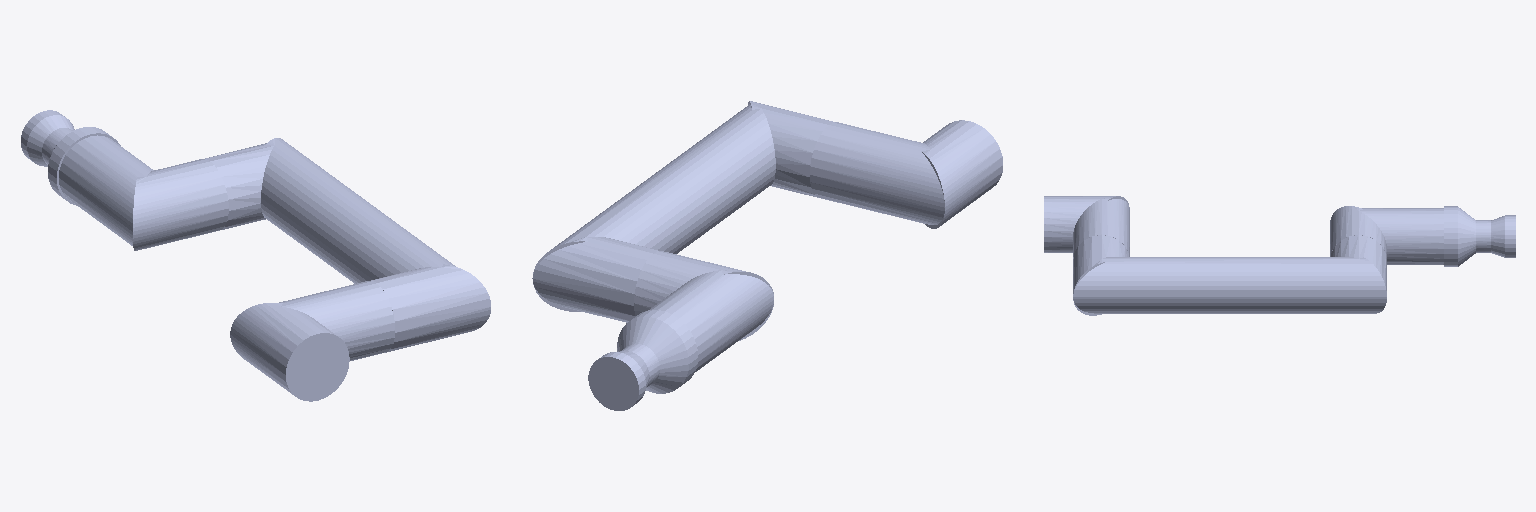
robot.urdf — Arm_Assembly:
<?xml version="1.0" encoding="utf-8"?>
<!-- This URDF was automatically created by SolidWorks to URDF Exporter! Originally created by [author] ([email redacted]) 
     Commit Version: 1.6.0-4-g7f85cfe  Build Version: 1.6.7995.38578
     For more information, please see http://wiki.ros.org/sw_urdf_exporter -->
<robot
  name="Arm_Assembly">
  <link
    name="base_link">
    <inertial>
      <origin
        xyz="0.0164819322270452 0.0335124839144456 -5.56826969460113E-08"
        rpy="0 0 0" />
      <mass
        value="0.125759644329932" />
      <inertia
        ixx="4.16616801787519E-05"
        ixy="-1.34383880723424E-05"
        ixz="3.2184099402983E-11"
        iyy="7.3944309174314E-05"
        iyz="-1.55171517648567E-11"
        izz="9.04146855164234E-05" />
    </inertial>
    <visual>
      <origin
        xyz="0 0 0"
        rpy="0 0 0" />
      <geometry>
        <mesh
          filename="package://Arm_Assembly/meshes/base_link.STL" />
      </geometry>
      <material
        name="">
        <color
          rgba="0.792156862745098 0.819607843137255 0.933333333333333 1" />
      </material>
    </visual>
    <collision>
      <origin
        xyz="0 0 0"
        rpy="0 0 0" />
      <geometry>
        <mesh
          filename="package://Arm_Assembly/meshes/base_link.STL" />
      </geometry>
    </collision>
  </link>
  <link
    name="Arm1_Link">
    <inertial>
      <origin
        xyz="0.0350081421194621 0.0900005805225534 -2.63654143478789E-08"
        rpy="0 0 0" />
      <mass
        value="0.326914980795999" />
      <inertia
        ixx="0.00153752211017919"
        ixy="2.12277509655233E-08"
        ixz="1.18707987533775E-09"
        iyy="0.000100837197022016"
        iyz="8.79449695233313E-10"
        izz="0.00157291699498599" />
    </inertial>
    <visual>
      <origin
        xyz="0 0 0"
        rpy="0 0 0" />
      <geometry>
        <mesh
          filename="package://Arm_Assembly/meshes/Arm1_Link.STL" />
      </geometry>
      <material
        name="">
        <color
          rgba="0.792156862745098 0.819607843137255 0.933333333333333 1" />
      </material>
    </visual>
    <collision>
      <origin
        xyz="0 0 0"
        rpy="0 0 0" />
      <geometry>
        <mesh
          filename="package://Arm_Assembly/meshes/Arm1_Link.STL" />
      </geometry>
    </collision>
  </link>
  <joint
    name="Arm_1"
    type="revolute">
    <origin
      xyz="0.06 0.04 0"
      rpy="0 0 0" />
    <parent
      link="base_link" />
    <child
      link="Arm1_Link" />
    <axis
      xyz="0 0 0" />
    <limit
      lower="0"
      upper="0"
      effort="0"
      velocity="0" />
  </joint>
  <link
    name="Arm2_Link">
    <inertial>
      <origin
        xyz="-0.0335124841072123 0.016481932158691 -5.51173252173295E-08"
        rpy="0 0 0" />
      <mass
        value="0.125759646485297" />
      <inertia
        ixx="7.39443096048779E-05"
        ixy="1.34383885010398E-05"
        ixz="1.65621191980396E-11"
        iyy="4.16616822135051E-05"
        iyz="3.30039799780915E-11"
        izz="9.04146841131394E-05" />
    </inertial>
    <visual>
      <origin
        xyz="0 0 0"
        rpy="0 0 0" />
      <geometry>
        <mesh
          filename="package://Arm_Assembly/meshes/Arm2_Link.STL" />
      </geometry>
      <material
        name="">
        <color
          rgba="0.792156862745098 0.819607843137255 0.933333333333333 1" />
      </material>
    </visual>
    <collision>
      <origin
        xyz="0 0 0"
        rpy="0 0 0" />
      <geometry>
        <mesh
          filename="package://Arm_Assembly/meshes/Arm2_Link.STL" />
      </geometry>
    </collision>
  </link>
  <joint
    name="Arm2"
    type="revolute">
    <origin
      xyz="0 0.18 0"
      rpy="0 0 0" />
    <parent
      link="Arm1_Link" />
    <child
      link="Arm2_Link" />
    <axis
      xyz="0 0 0" />
    <limit
      lower="0"
      upper="0"
      effort="0"
      velocity="0" />
  </joint>
  <link
    name="EndEffector_Link">
    <inertial>
      <origin
        xyz="-1.38777878078145E-17 0.0200263809417172 1.40690967654108E-17"
        rpy="0 0 0" />
      <mass
        value="0.0397222034116136" />
      <inertia
        ixx="1.252543858576E-05"
        ixy="-1.74876511483439E-21"
        ixz="8.92062071560503E-22"
        iyy="6.17273117703662E-06"
        iyz="1.88599887480115E-21"
        izz="1.252543858576E-05" />
    </inertial>
    <visual>
      <origin
        xyz="0 0 0"
        rpy="0 0 0" />
      <geometry>
        <mesh
          filename="package://Arm_Assembly/meshes/EndEffector_Link.STL" />
      </geometry>
      <material
        name="">
        <color
          rgba="0.792156862745098 0.819607843137255 0.933333333333333 1" />
      </material>
    </visual>
    <collision>
      <origin
        xyz="0 0 0"
        rpy="0 0 0" />
      <geometry>
        <mesh
          filename="package://Arm_Assembly/meshes/EndEffector_Link.STL" />
      </geometry>
    </collision>
  </link>
  <joint
    name="EndEffector"
    type="revolute">
    <origin
      xyz="-0.04 0.06 0"
      rpy="0 0 0" />
    <parent
      link="Arm2_Link" />
    <child
      link="EndEffector_Link" />
    <axis
      xyz="0 1 0" />
    <limit
      lower="0"
      upper="0"
      effort="0"
      velocity="0" />
  </joint>
</robot>

--- Facts derived from the render (not from the file) ---
3 views of the same robot in one strip: view 1: azimuth 30°, elevation 25°; view 2: azimuth 150°, elevation 25°; view 3: azimuth 270°, elevation 25° (orthographic).
Robot: Arm_Assembly — 4 links, 3 joints (3 revolute); root link base_link; default pose: all joints at 0.
Links seen in each view (by area): view 1: Arm1_Link, base_link, Arm2_Link, EndEffector_Link; view 2: Arm1_Link, base_link, Arm2_Link, EndEffector_Link; view 3: Arm1_Link, Arm2_Link, base_link, EndEffector_Link.
Boxes of the visible links, box(x1,y1,x2,y2) form: Arm1_Link: box(205, 138, 490, 352); base_link: box(230, 281, 394, 401); Arm2_Link: box(59, 135, 228, 250); EndEffector_Link: box(21, 110, 120, 205); Arm1_Link: box(532, 101, 834, 322); base_link: box(810, 120, 1002, 228); Arm2_Link: box(634, 251, 773, 371); EndEffector_Link: box(588, 310, 698, 410); Arm1_Link: box(1073, 235, 1386, 315); Arm2_Link: box(1330, 206, 1443, 264); base_link: box(1044, 196, 1129, 258); EndEffector_Link: box(1444, 206, 1515, 266).
Size in the robot's own frame: 0.14 by 0.33 by 0.0424 metres.
4 mesh visuals loaded from 4 distinct referenced files (4 binary STL).